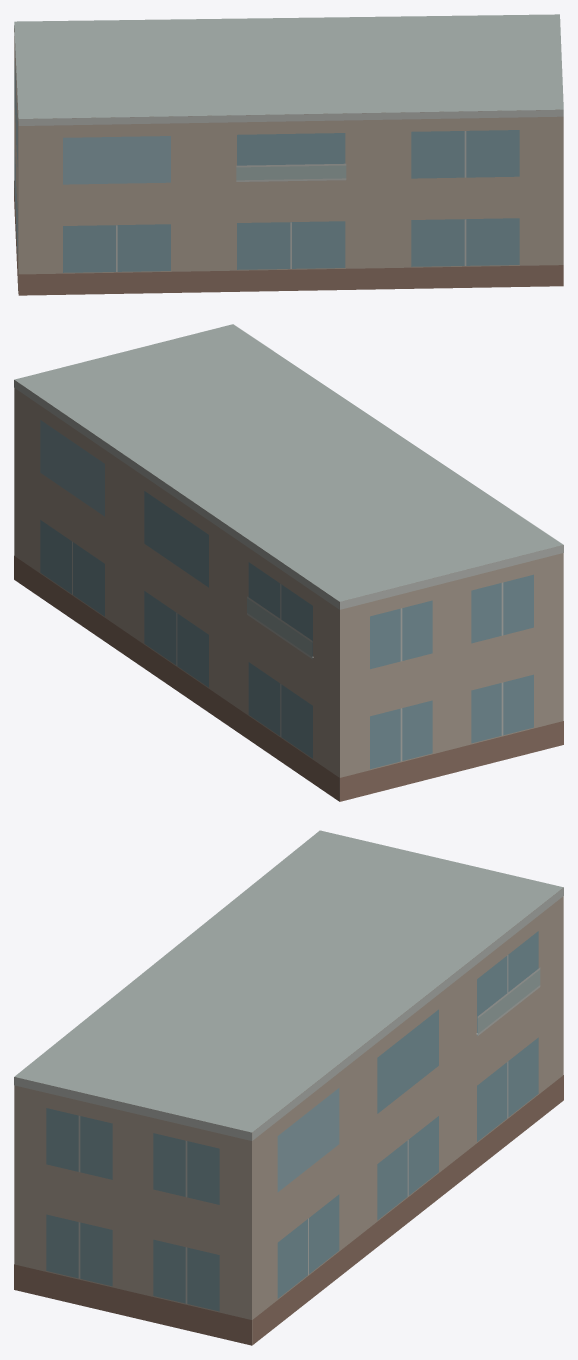
Rendered from survey-upis-32895801.glb.
The picture shows the model from 3 angles, top to bottom: view 1: azimuth 30°, elevation 25°; view 2: azimuth 150°, elevation 25°; view 3: azimuth 270°, elevation 25°; orthographic projection. The views are drawn at different scales.
Parts seen in each view (by area): view 1: survey-upis-32895801.tmp; view 2: survey-upis-32895801.tmp; view 3: survey-upis-32895801.tmp.
Part boxes in pixels (x1,y1,x2,y2): survey-upis-32895801.tmp: [14, 14, 563, 295]; survey-upis-32895801.tmp: [14, 324, 563, 801]; survey-upis-32895801.tmp: [14, 830, 563, 1345].
Size of the model in its own units: 18.58 by 6.1 by 14.28.
